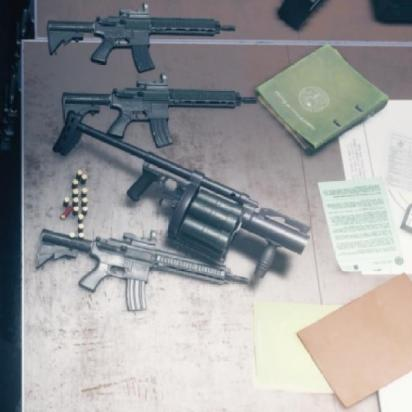Gun: (34, 224, 250, 314), (60, 76, 260, 146), (48, 2, 238, 71)
